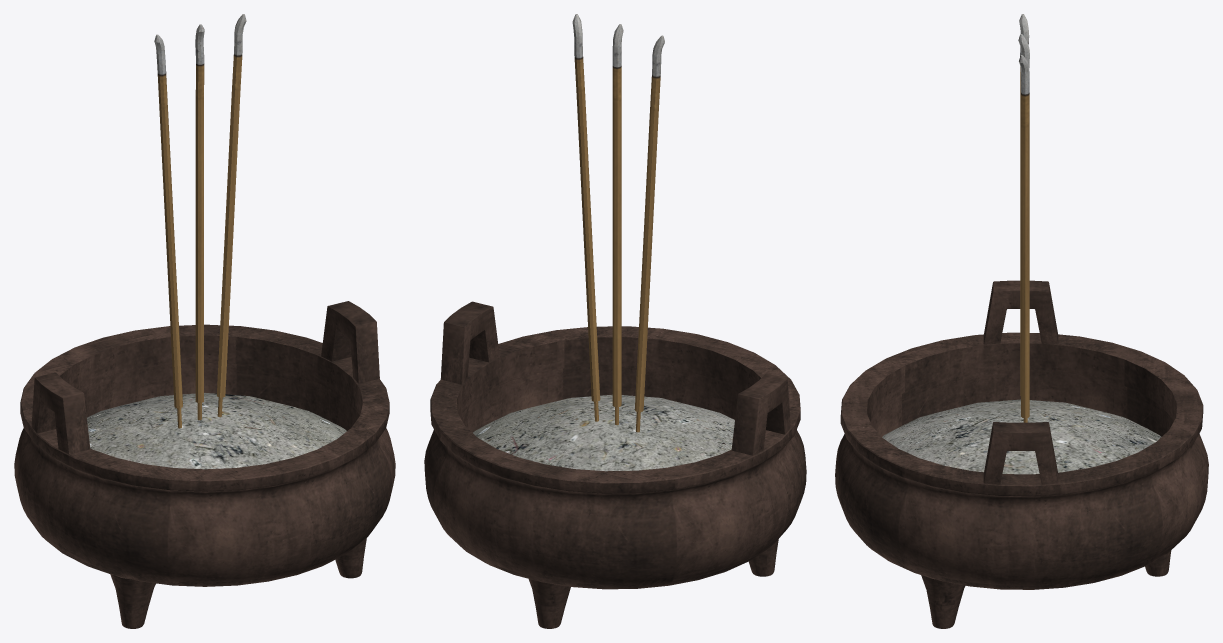
3 renders of one model, left to right at view 1: azimuth 30°, elevation 25°; view 2: azimuth 150°, elevation 25°; view 3: azimuth 270°, elevation 25°, orthographic. The views are drawn at different scales.
Parts seen in each view (by area): view 1: LC-香炉; view 2: LC-香炉; view 3: LC-香炉.
Part boxes in pixels (x1=…): LC-香炉: x1=14, y1=14, x2=395, y2=628; LC-香炉: x1=424, y1=14, x2=806, y2=628; LC-香炉: x1=835, y1=14, x2=1208, y2=628.
Bounding box in the file's own units: 0.1316 × 0.1316 × 0.2089.
